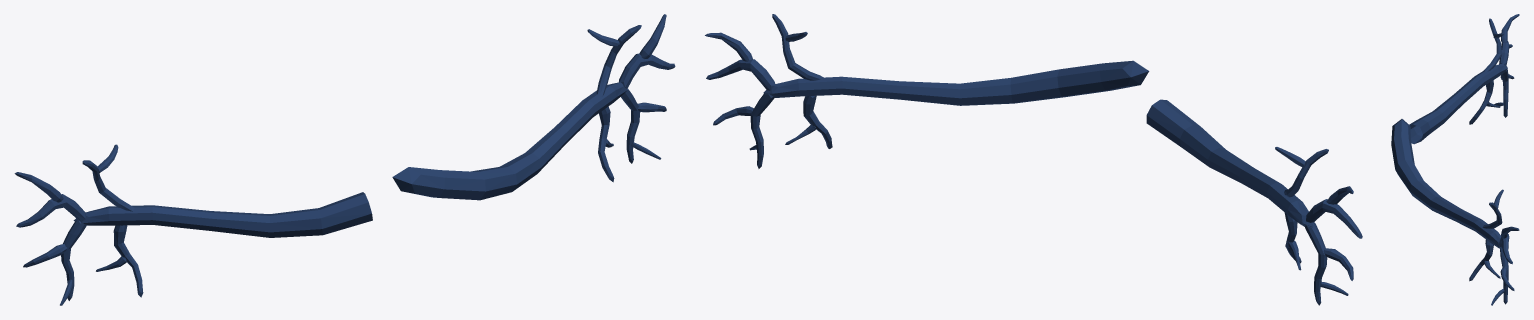
Rendered from Vena Renal.FBX.
3 views of the same model, side by side, from view 1: azimuth 30°, elevation 25°; view 2: azimuth 150°, elevation 25°; view 3: azimuth 270°, elevation 25° (orthographic). The views are drawn at different scales.
Parts seen in each view (by area): view 1: CS_Veins; view 2: CS_Veins; view 3: CS_Veins.
Boxes of the visible parts, box(x1,y1,x2,y2) form: CS_Veins: box(14, 14, 675, 305); CS_Veins: box(705, 14, 1362, 305); CS_Veins: box(1391, 14, 1519, 305).
Size of the model in its own units: 504 by 108 by 125.
